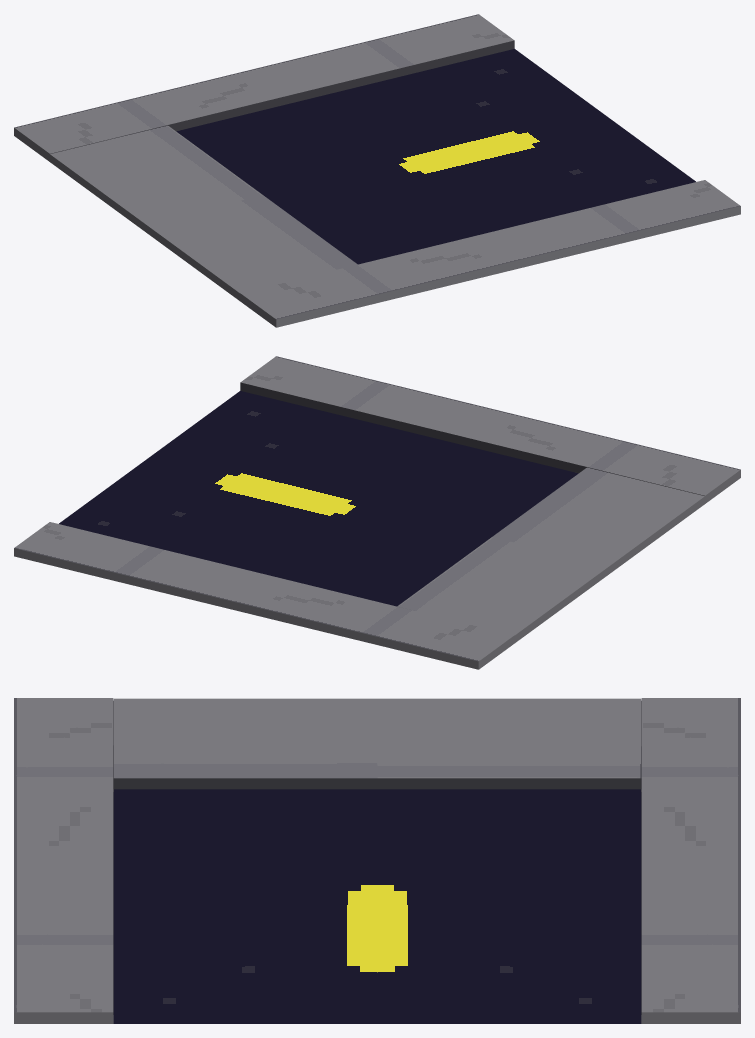
Rendered from roadcorner.fbx.
3 renders of one model, top to bottom at view 1: azimuth 30°, elevation 25°; view 2: azimuth 150°, elevation 25°; view 3: azimuth 270°, elevation 25°, orthographic. The views are drawn at different scales.
Parts seen in each view (by area): view 1: Road.001; view 2: Road.001; view 3: Road.001.
Boxes of the visible parts, x1=… form: Road.001: x1=14, y1=14, x2=740, y2=327; Road.001: x1=14, y1=356, x2=740, y2=669; Road.001: x1=14, y1=698, x2=740, y2=1023.
Size of the model in its own units: 200 by 3.41 by 195.
Materials: 1 (1 with a texture image).
